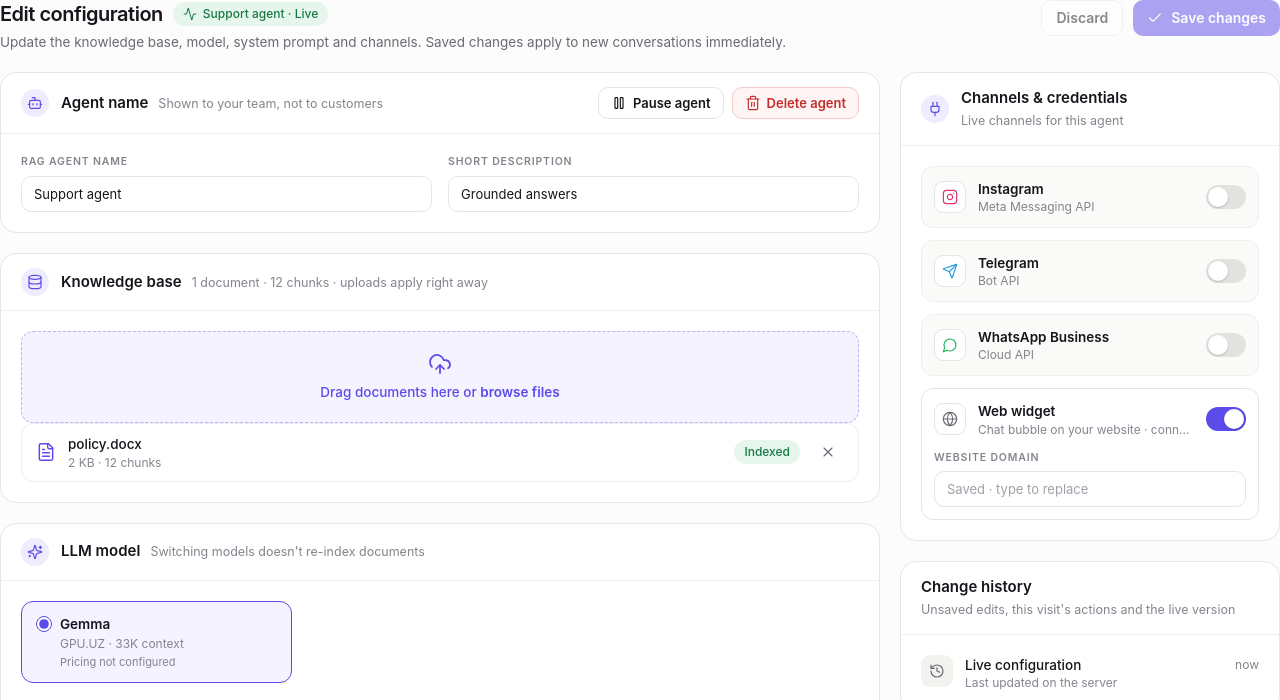
RAG agent configuration page › saves edited fields and channel changes together
Replace the text in the field with placeholder "Aura Support Agent" with "Renamed agent" at (226, 194), box top-left (21, 176), bottom-right (432, 212)
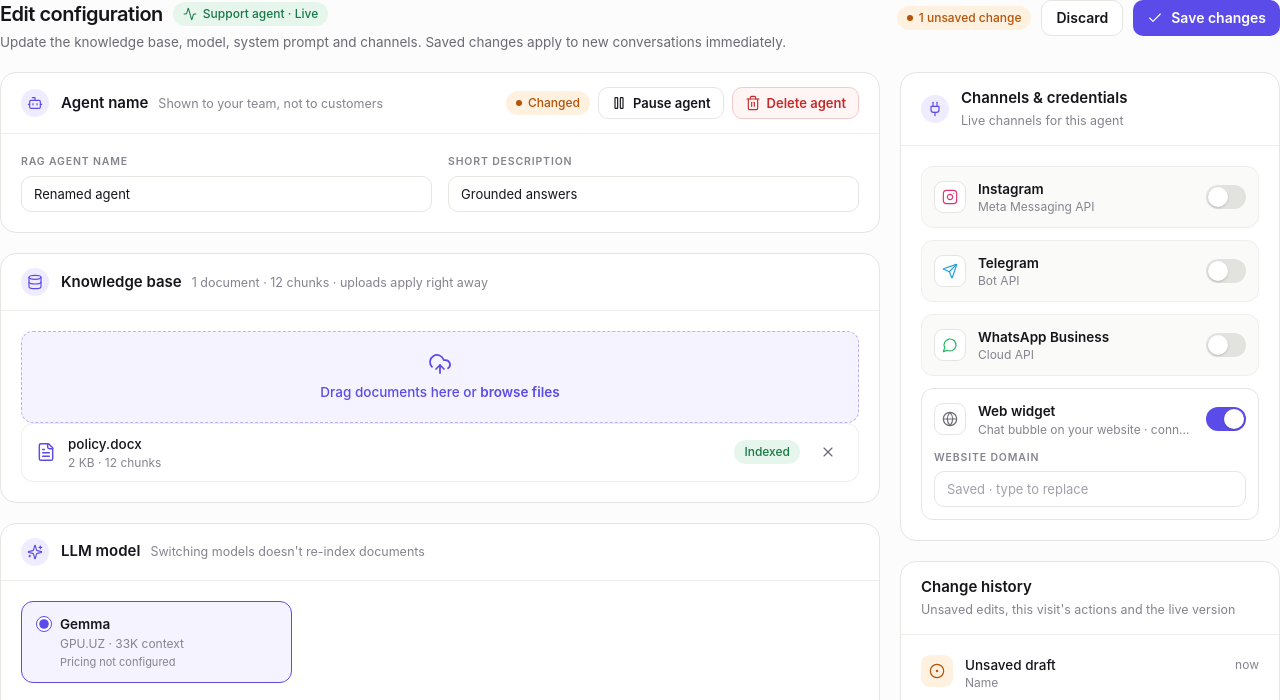
Click the switch named "Connect Web widget" at (1226, 419), box top-left (1206, 407), bottom-right (1246, 431)
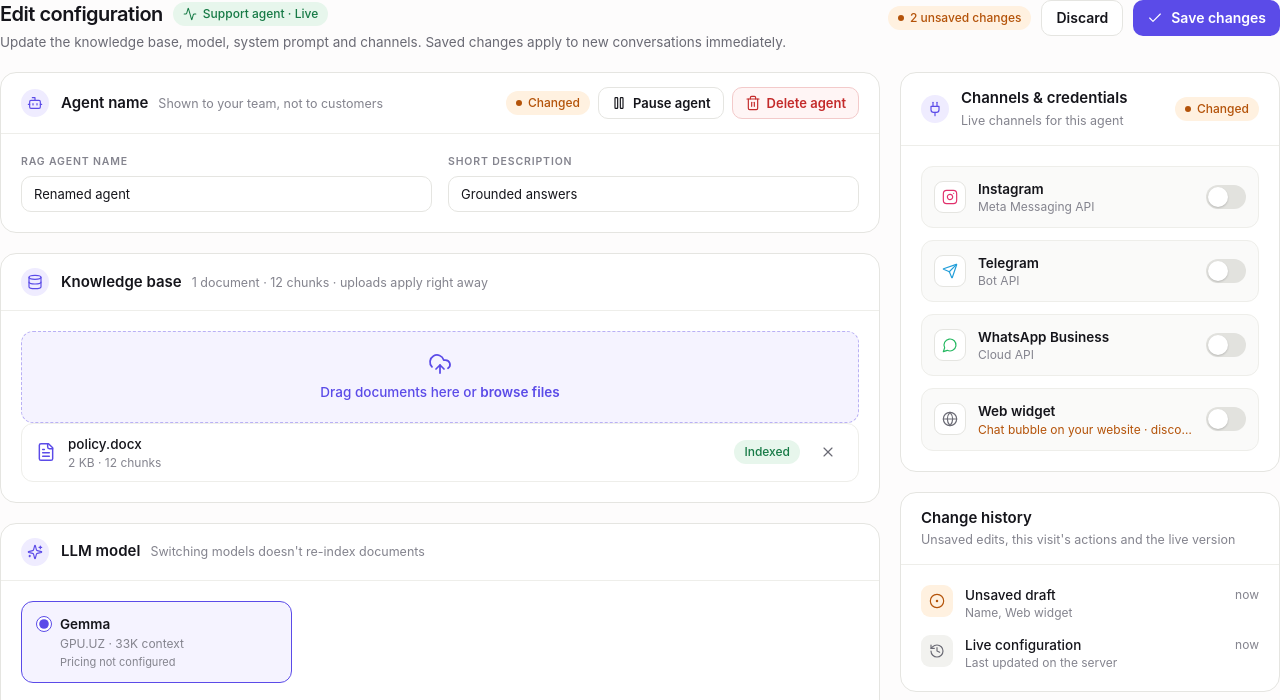
Check: the text "2 unsaved changes" is shown, box top-left (888, 6), bottom-right (1032, 30)
Click the button "Save changes" at (1207, 18), box top-left (1133, 0), bottom-right (1279, 36)
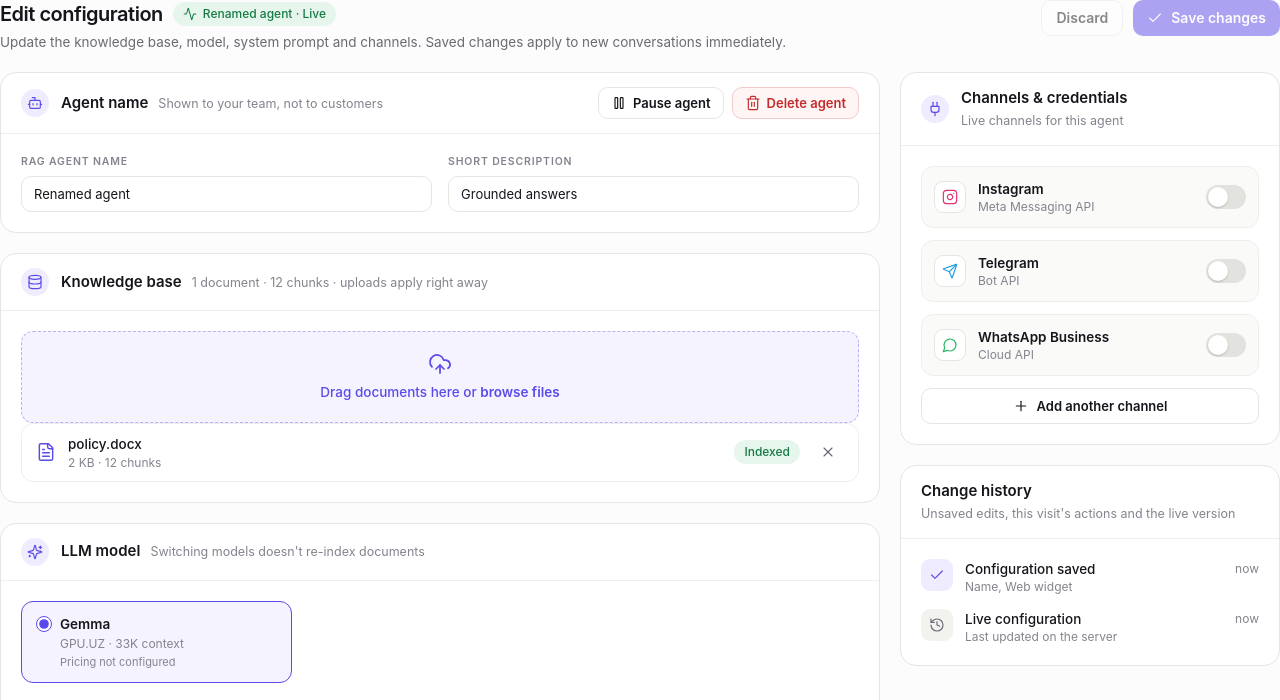
Check: the text "Renamed agent · Live" is shown, box top-left (173, 2), bottom-right (336, 26)
Check: the text "unsaved change" is gone
